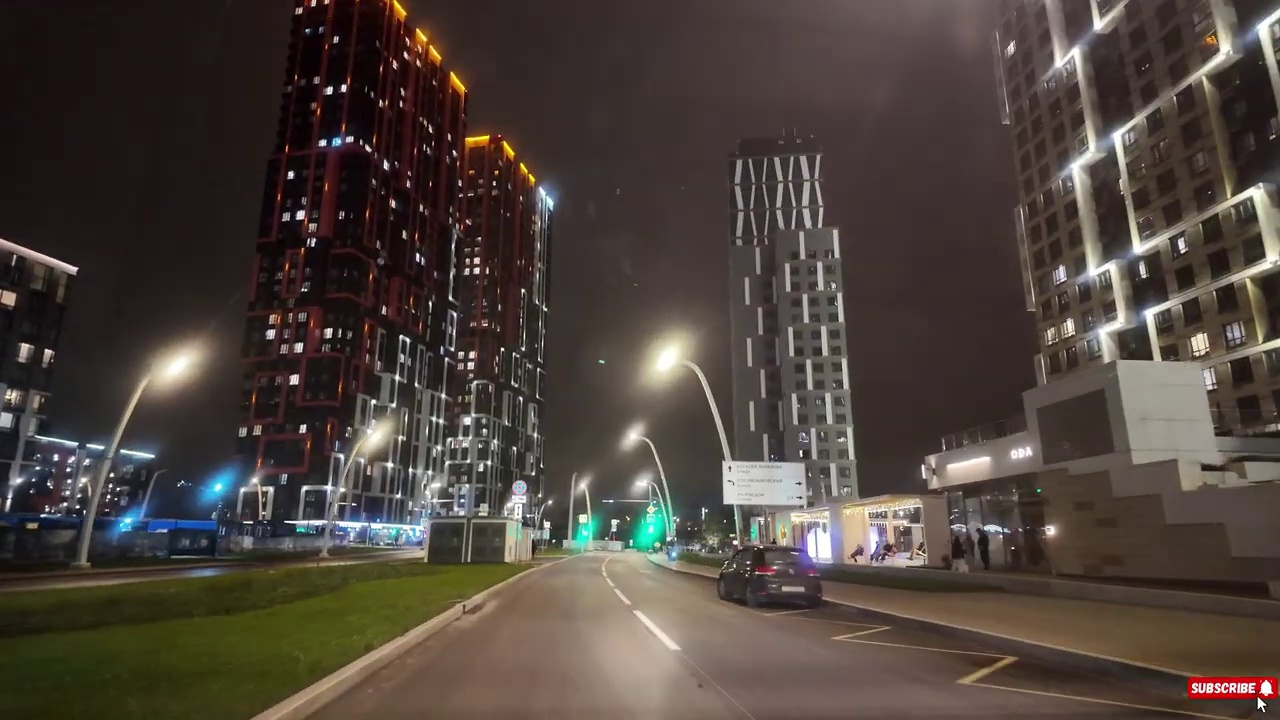acesa: (640, 331, 694, 389), (148, 343, 204, 395), (616, 422, 650, 458)
